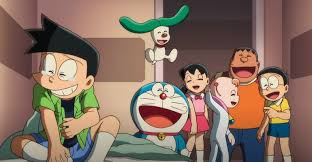doraemon: (130, 81, 190, 157)
